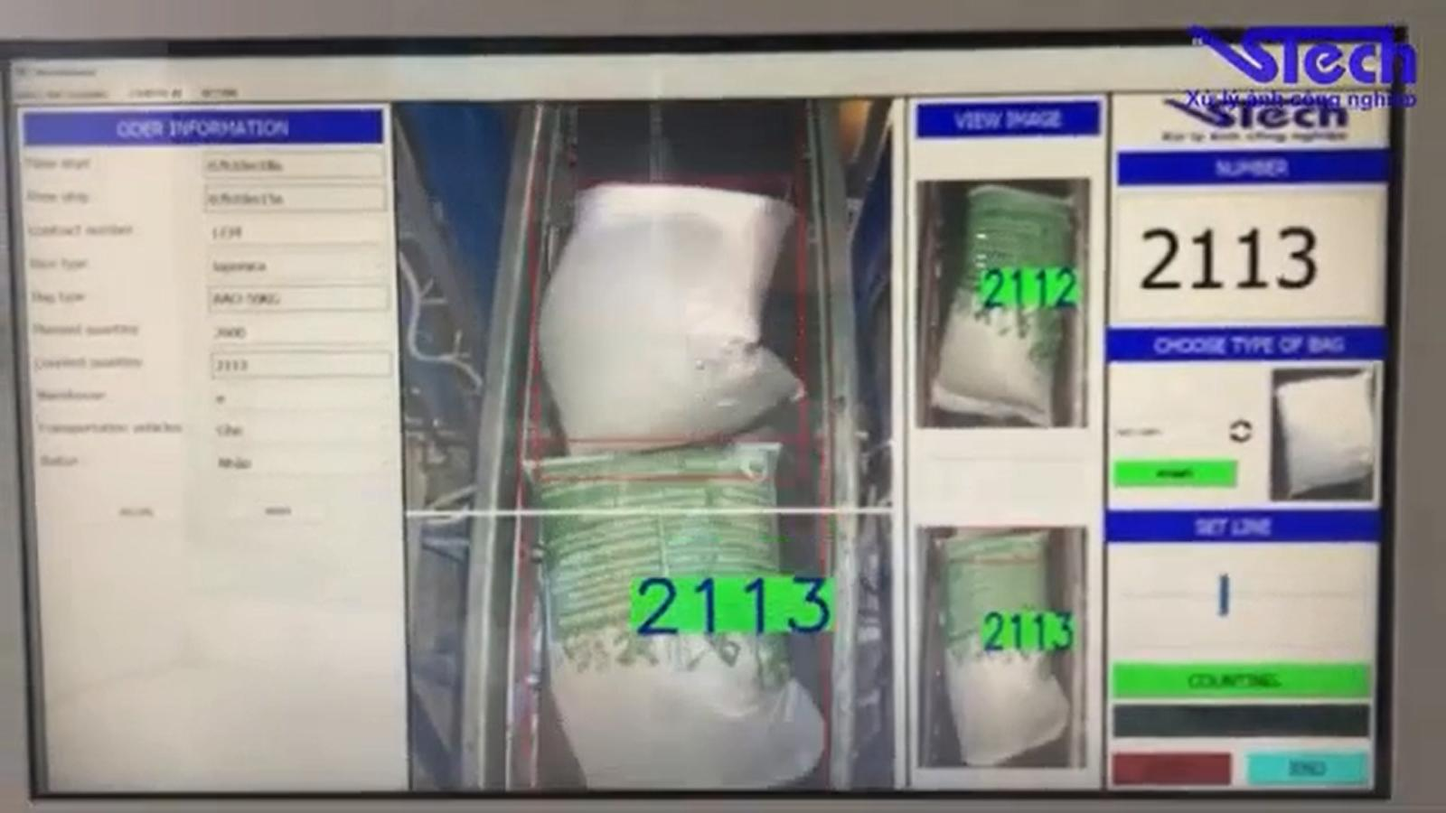rice-bag: (528, 442, 826, 790), (538, 182, 802, 449), (931, 182, 1083, 427), (942, 530, 1068, 765)
